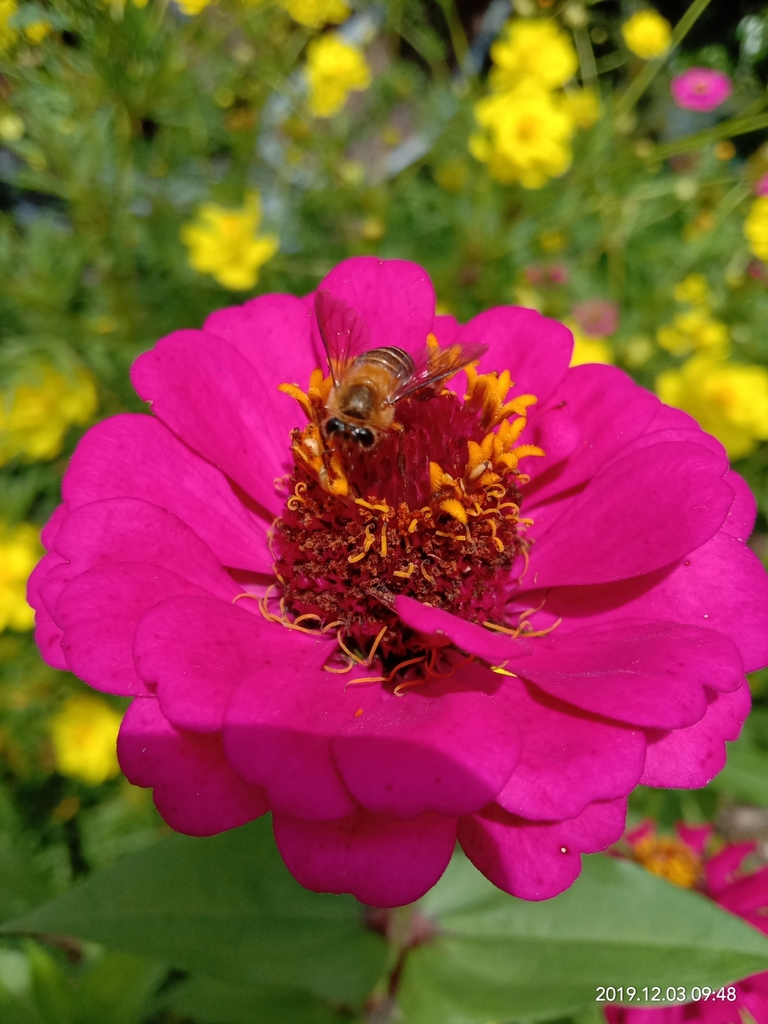not_bumblebee: (310, 286, 491, 453)
